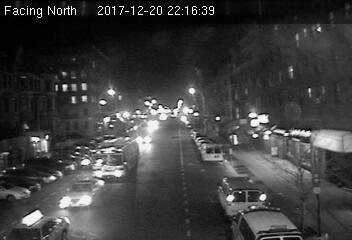bus: (91, 137, 140, 180)
car: (3, 208, 69, 240), (60, 178, 105, 208)
police: (231, 202, 301, 240), (217, 174, 273, 209)
truck: (197, 144, 223, 162)
